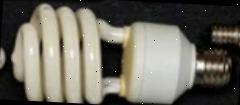lightbulb: (6, 0, 240, 105), (117, 19, 197, 105), (193, 45, 232, 88), (209, 21, 240, 47), (0, 46, 4, 70)
